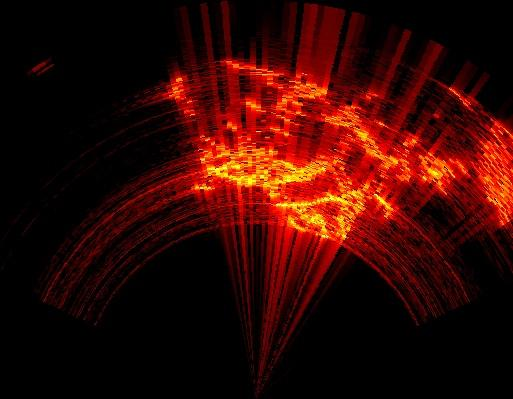shipwreck: (200, 117, 397, 238), (413, 122, 512, 226), (224, 60, 330, 140), (321, 106, 416, 181), (170, 76, 197, 119), (241, 94, 262, 115)
